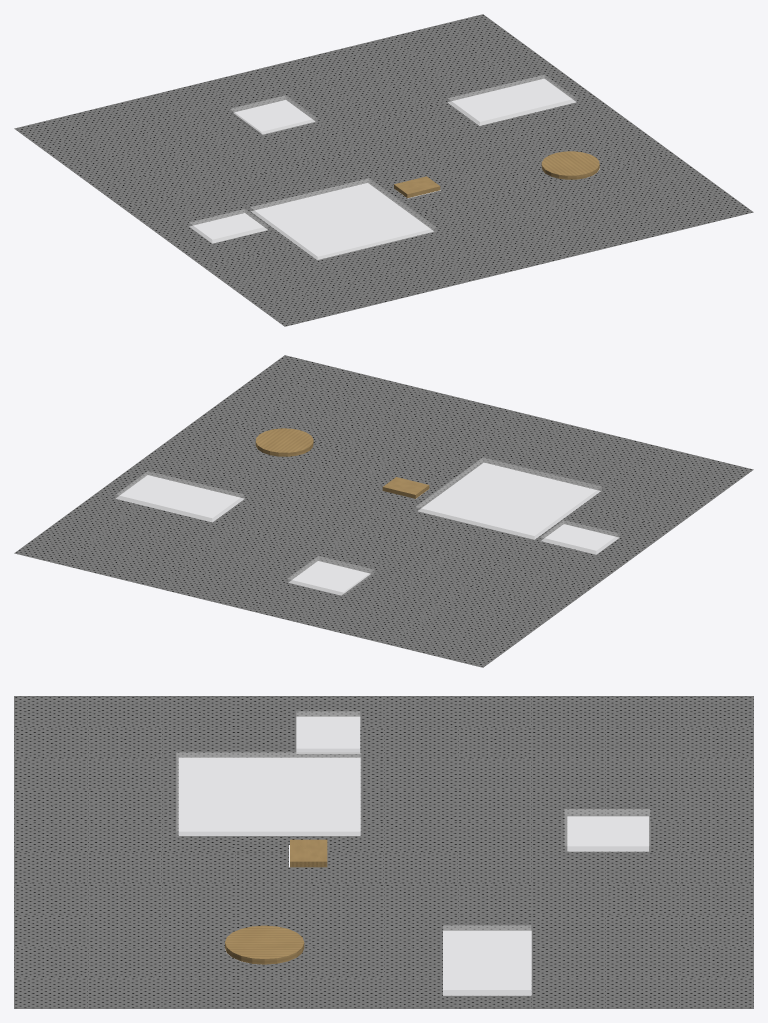
File: mazeTop.fbx
3 renders of one model, top to bottom at view 1: azimuth 30°, elevation 25°; view 2: azimuth 150°, elevation 25°; view 3: azimuth 270°, elevation 25°, orthographic. The views are drawn at different scales.
Visible parts, largest first — view 1: polySurface319; view 2: polySurface319; view 3: polySurface319.
Part boxes in pixels (x1,y1,x2,y2): polySurface319: [14, 14, 753, 326]; polySurface319: [14, 355, 753, 667]; polySurface319: [14, 696, 753, 1008].
Size of the model in its own units: 51.51 by 0.4422 by 51.51.
